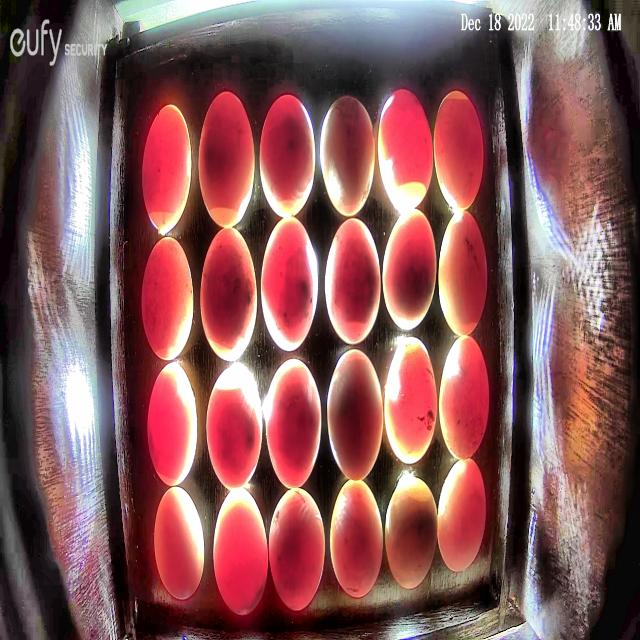FE: (260, 216, 320, 351), (199, 228, 258, 364), (198, 91, 256, 228), (327, 350, 384, 480), (266, 359, 322, 489), (212, 486, 268, 616), (268, 486, 325, 613), (325, 217, 381, 345), (259, 93, 316, 218), (205, 364, 262, 489), (378, 86, 434, 212), (319, 95, 375, 215), (383, 207, 437, 331), (384, 338, 437, 464), (142, 103, 192, 235), (329, 478, 384, 598), (142, 236, 194, 362), (147, 361, 198, 487), (438, 208, 487, 336), (384, 475, 438, 590), (440, 336, 489, 460), (434, 90, 484, 209), (154, 486, 205, 599), (437, 457, 486, 573)
